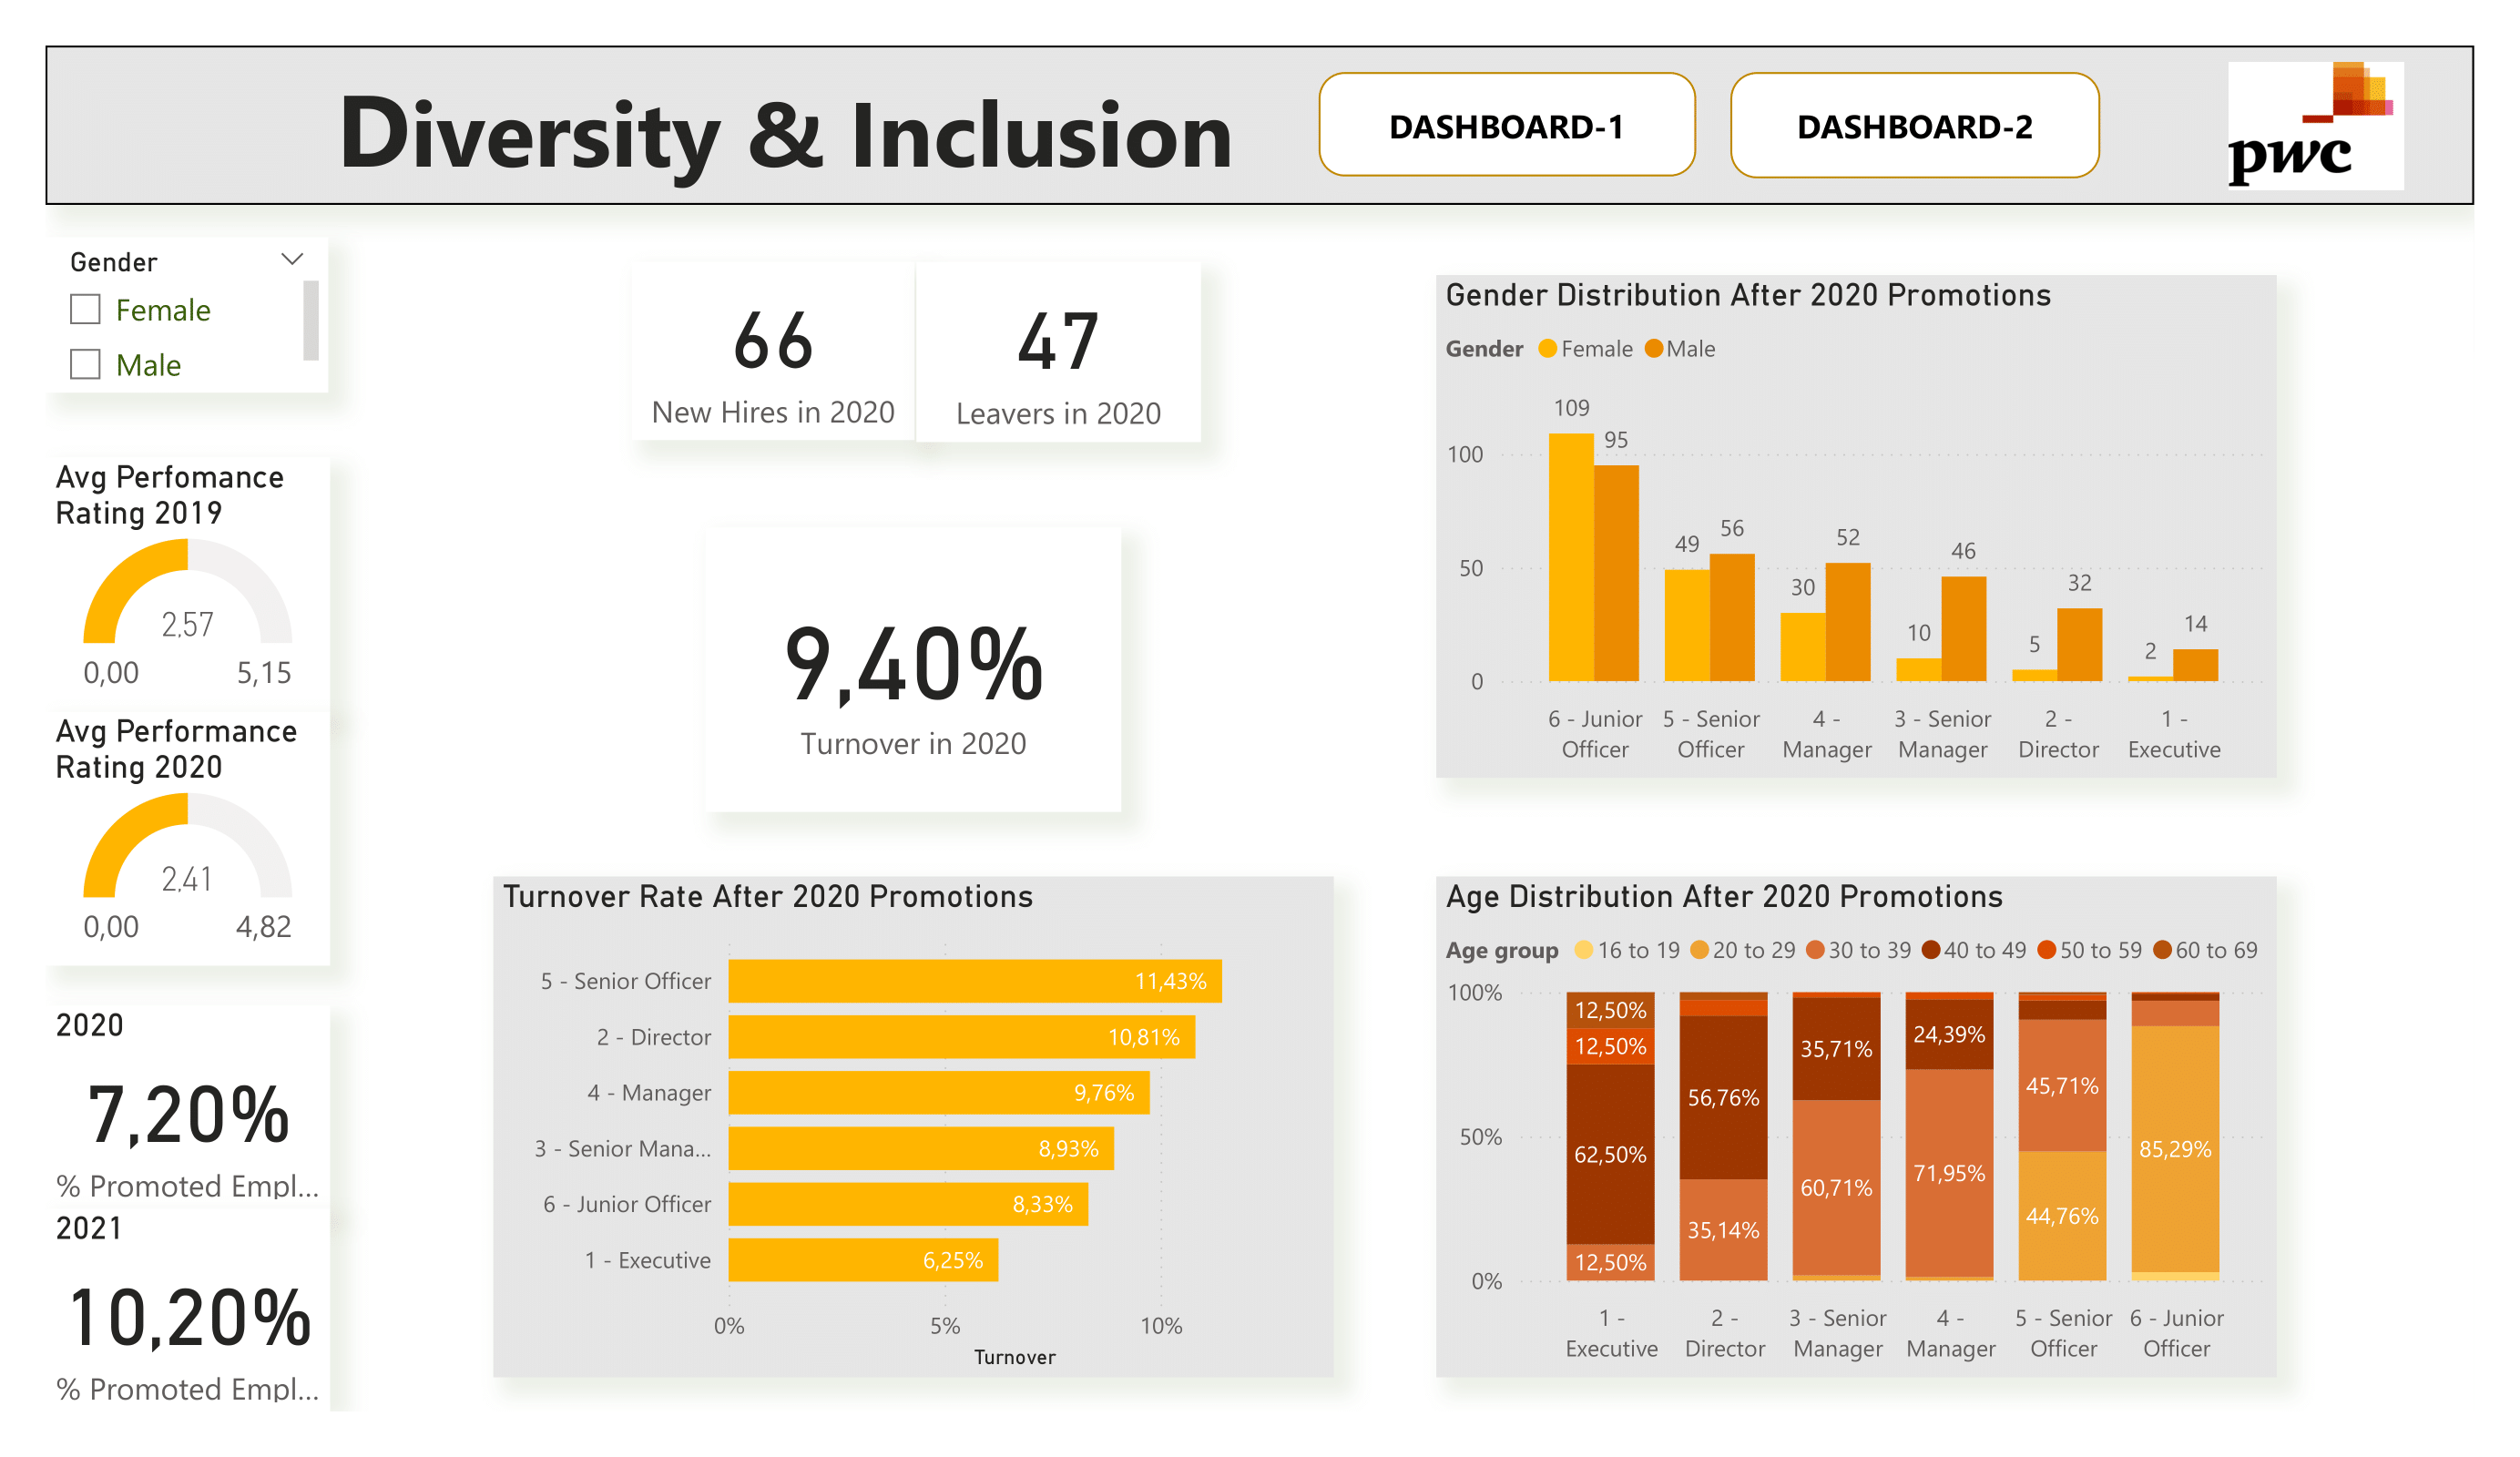

The dashboard page shown, as its layout file describes it:
{"tool":"powerbi","page":{"name":"Seite 2","canvas":[1280,720],"ordinal":1},"visuals":[{"type":"group","id":"g1","title":"Gruppe 1","box":[0,0,1280,84.3],"z":0},{"type":"textbox","box":[0,0,1280,84.3],"z":3,"group":"g1"},{"type":"image","box":[1112.5,4.3,167.5,76.8],"z":12,"group":"g1"},{"type":"shape","title":"OVERVIEW","box":[887.6,14.4,195.6,55.3],"z":1000},{"type":"shape","title":"hfhfhg","box":[671,14.4,199.3,54.3],"z":2000},{"type":"slicer","fields":{"Values":["Div_Inc.Gender"]},"box":[0,100.8,149,82.5],"z":3000},{"type":"gauge","title":"Avg Perfomance Rating 2019","fields":{"Y":["Avg(Div_Inc.FY19 Performance Rating)"]},"box":[0,216.5,150.1,134],"z":4000},{"type":"card","title":"New Hires in 2020","fields":{"Values":["CountNonNull(Div_Inc.New hire FY20?)"]},"box":[219.8,390.2,149.5,94.1],"z":4000,"group":"g2"},{"type":"gauge","title":"Avg Performance Rating 2020","fields":{"Y":["Avg(Div_Inc.FY20 Performance Rating)"]},"box":[0,350.6,150.1,134],"z":5000},{"type":"clusteredColumnChart","title":"Gender Distribution  After 2020 Promotions","fields":{"Category":["Div_Inc.Job Level after FY20 promotions"],"Series":["Div_Inc.Gender"],"Y":["CountNonNull(Div_Inc.Job Level after FY20 promotions)"]},"box":[219.8,100.8,442.7,264.8],"z":6000},{"type":"group","id":"g2","title":"Gruppe 2","box":[219.8,390.2,149,93.3],"z":7000},{"type":"card","fields":{"Values":["CountNonNull(Div_Inc.FY20 leaver?)"]},"box":[368.8,390.2,149,94.3],"z":8000},{"type":"card","title":"2020","fields":{"Values":["Div_Inc.% Employees Promoted"]},"box":[0,506,150.1,107.2],"z":9000},{"type":"card","title":"2021","fields":{"Values":["Div_Inc.% Promoted Employees_2021"]},"box":[0,613.2,150.1,107.2],"z":10000},{"type":"hundredPercentStackedColumnChart","title":"Age Distribution  After 2020 Promotions ","fields":{"Series":["Div_Inc.Age group"],"Category":["Div_Inc.Job Level after FY20 promotions"],"Y":["CountNonNull(Div_Inc.Job Level after FY20 promotions)"]},"box":[708.6,101.8,442.7,263.7],"z":11000},{"type":"card","fields":{"Values":["Div_Inc.Turnover"]},"box":[259.5,505.8,218.5,149.7],"z":12000},{"type":"clusteredBarChart","title":"Turnover Rate After 2020 Promotions","fields":{"Category":["Div_Inc.Job Level after FY20 promotions"],"Y":["Div_Inc.Turnover"]},"box":[708.8,417.1,442.6,264],"z":12001}]}

Visuals, with their boxes on the page's 1280x720 design canvas (x1, y1, x2, y2). These are canvas units, not pixel positions in the 2520x1457 screenshot, which may show the page scaled, cropped or inside an application window:
"Gruppe 1" group: box(0, 0, 1280, 84)
textbox: box(0, 0, 1280, 84)
image: box(1112, 4, 1280, 81)
"OVERVIEW" shape: box(888, 14, 1083, 70)
"hfhfhg" shape: box(671, 14, 870, 69)
slicer - Div_Inc.Gender: box(0, 101, 149, 183)
"Avg Perfomance Rating 2019" gauge: box(0, 216, 150, 350)
"New Hires in 2020" card: box(220, 390, 369, 484)
"Avg Performance Rating 2020" gauge: box(0, 351, 150, 485)
"Gender Distribution  After 2020 Promotions" clusteredColumnChart: box(220, 101, 662, 366)
"Gruppe 2" group: box(220, 390, 369, 484)
card - CountNonNull(Div_Inc.FY20 leaver?): box(369, 390, 518, 484)
"2020" card: box(0, 506, 150, 613)
"2021" card: box(0, 613, 150, 720)
"Age Distribution  After 2020 Promotions " hundredPercentStackedColumnChart: box(709, 102, 1151, 366)
card - Div_Inc.Turnover: box(260, 506, 478, 656)
"Turnover Rate After 2020 Promotions" clusteredBarChart: box(709, 417, 1151, 681)
